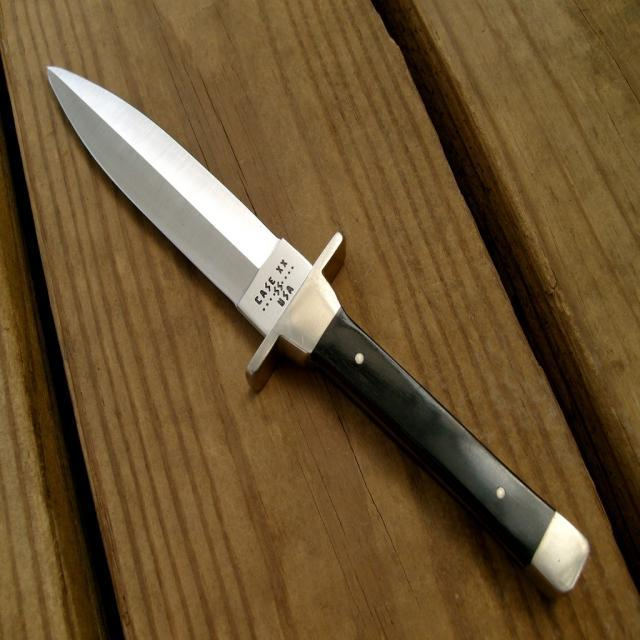Knife: (49, 68, 588, 591)
